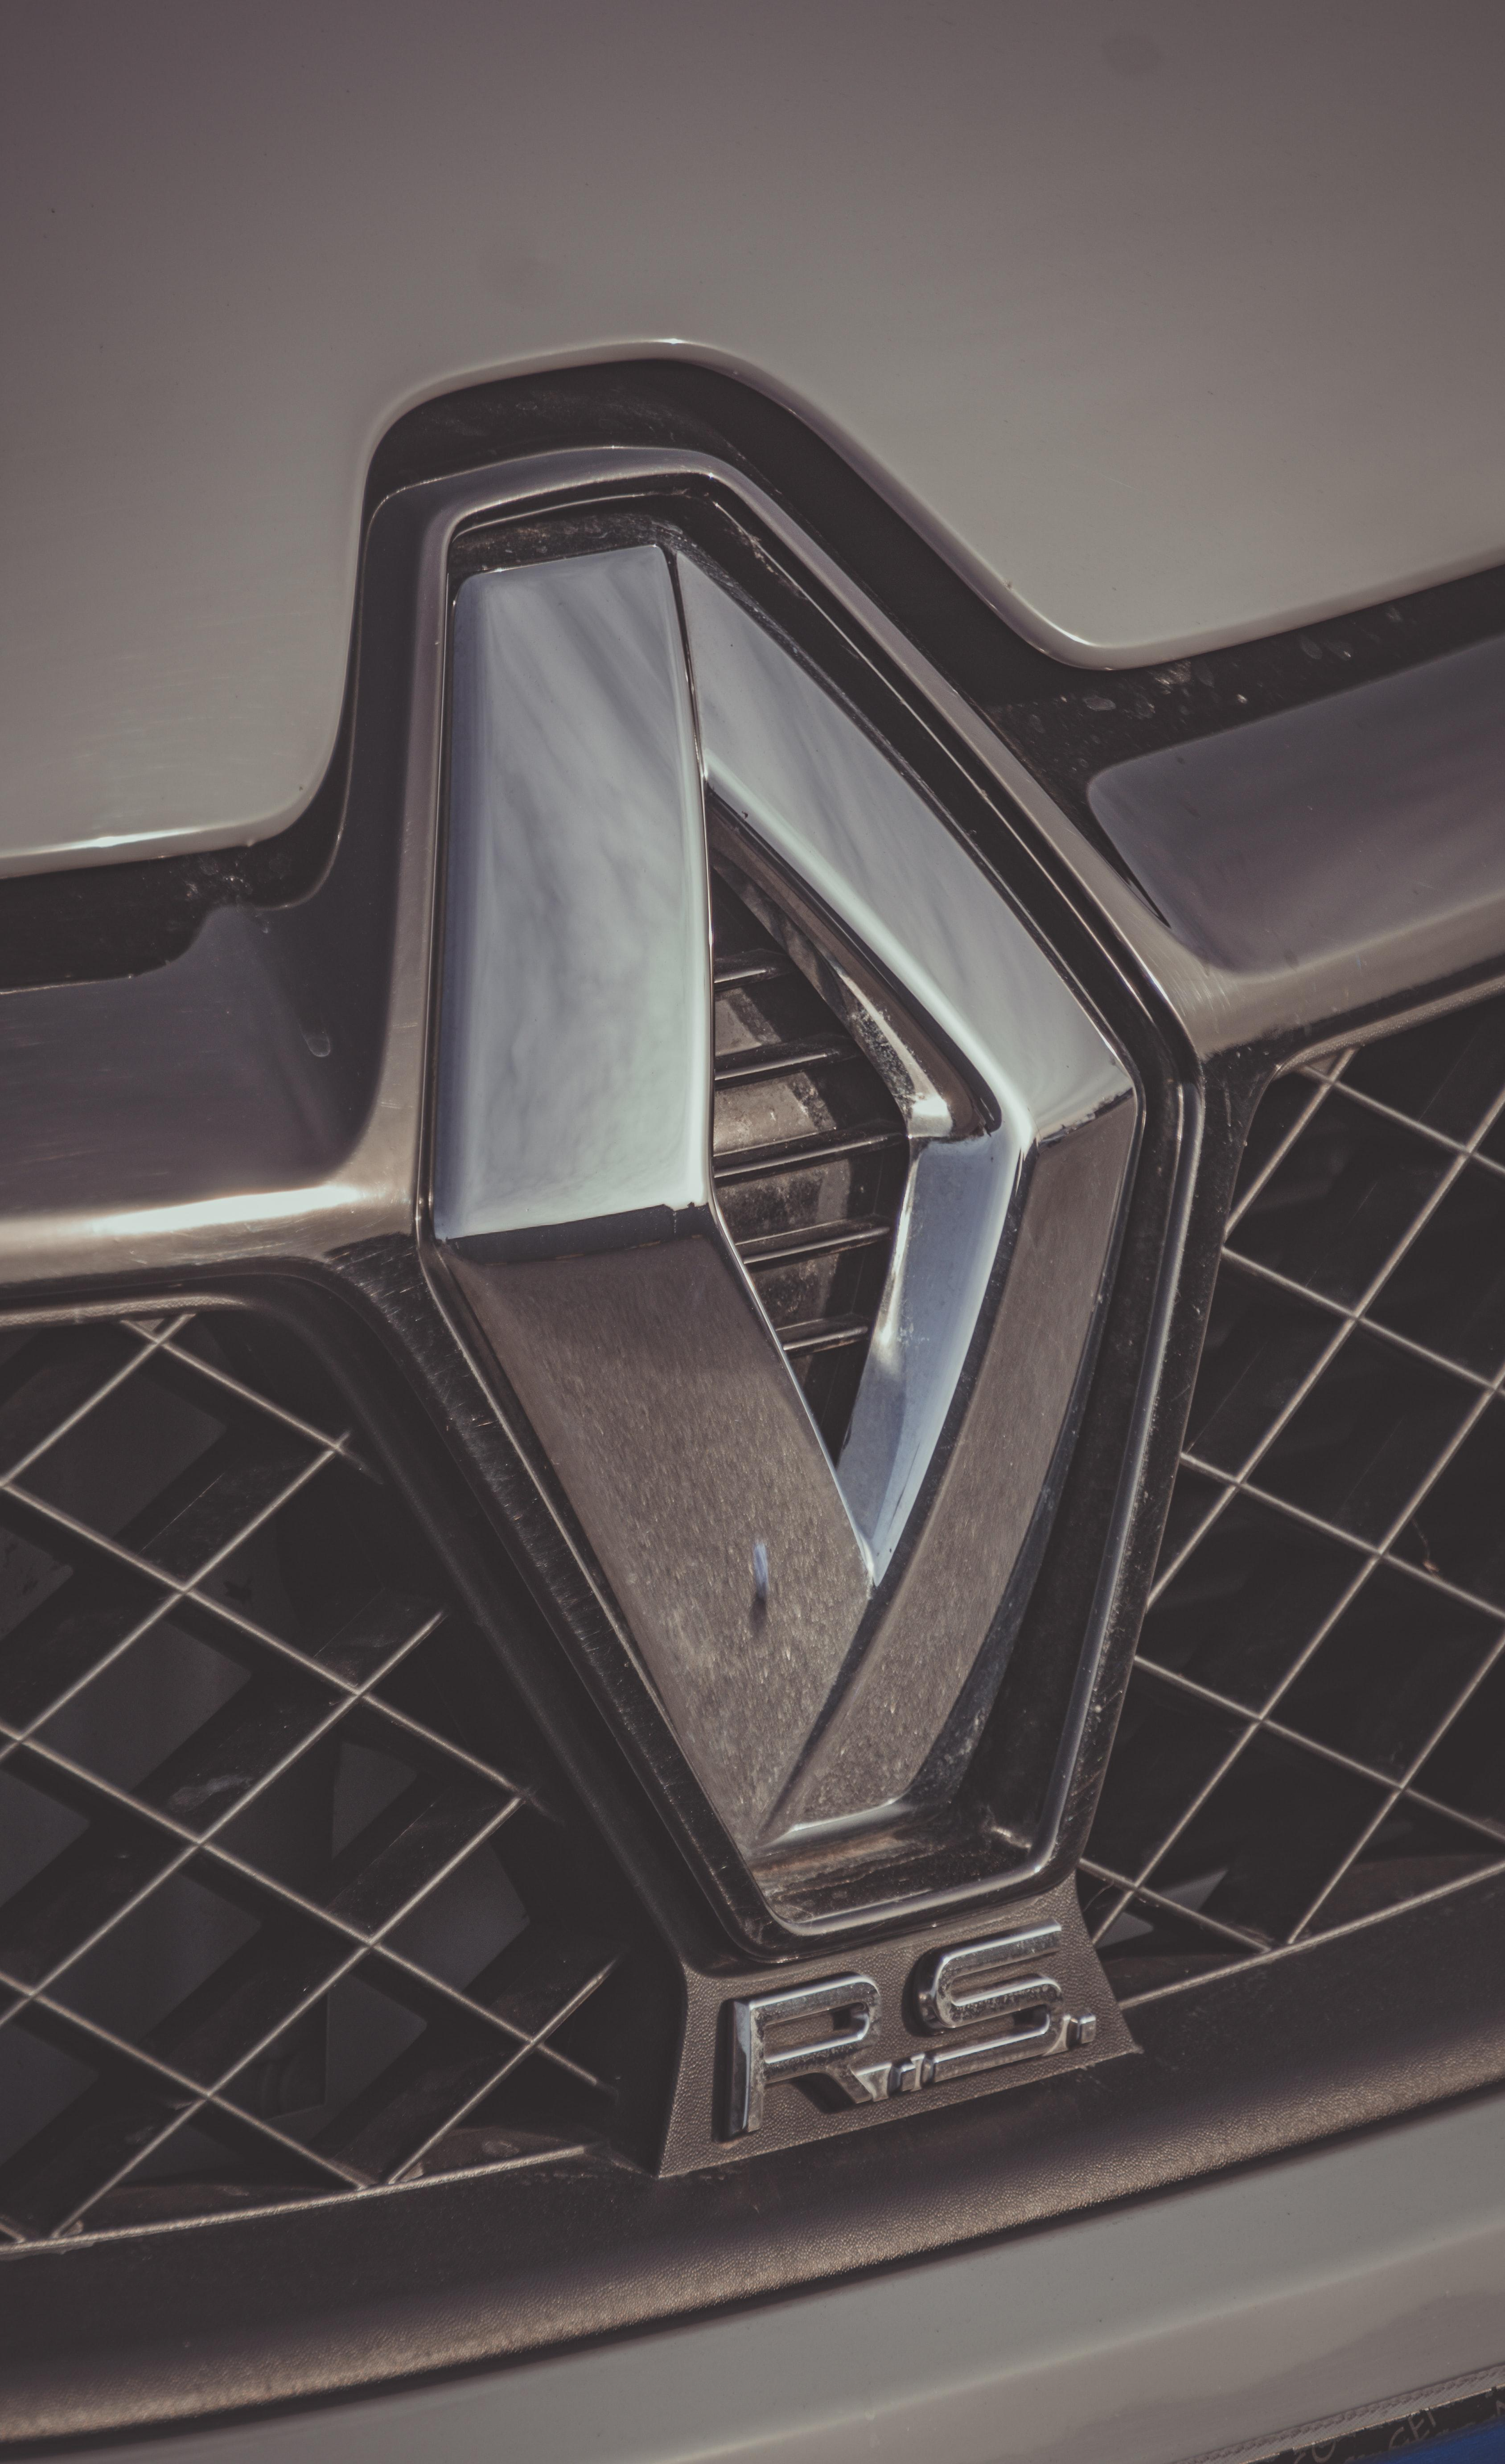Renault: (299, 447, 1223, 1920)
